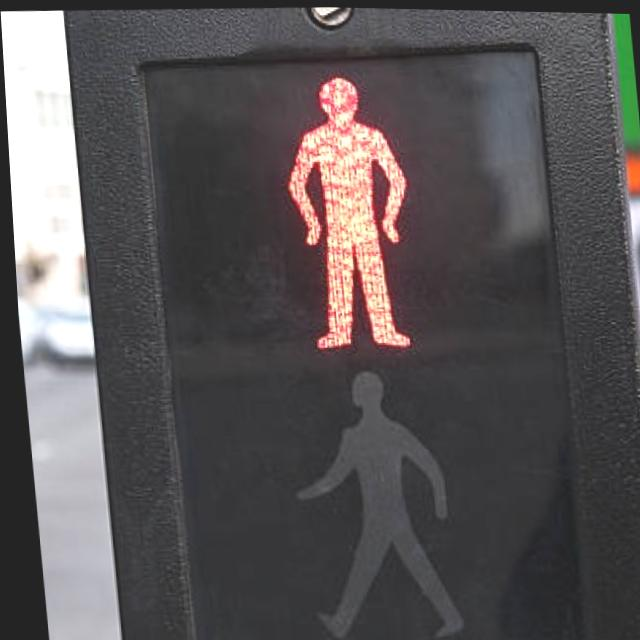red_light: (250, 51, 429, 367)
